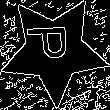P_E: (29, 31, 80, 70)
